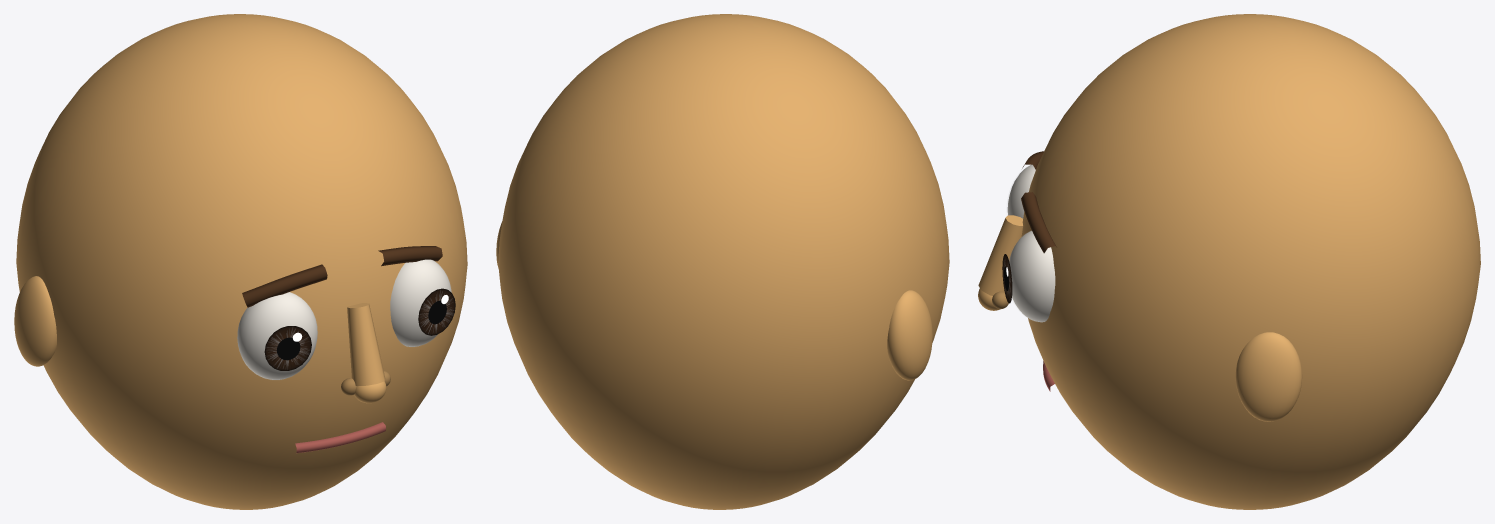
The model's file is 05-en-colere.glb.
The picture shows the model from 3 angles, left to right: view 1: azimuth 30°, elevation 25°; view 2: azimuth 150°, elevation 25°; view 3: azimuth 270°, elevation 25°; orthographic projection.
Bounding box in the file's own units: 0.3087 × 0.321 × 0.3166.
Materials: 9 (1 with a texture image).
